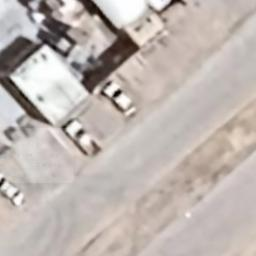pickup: (62, 118, 104, 159)
sedan: (99, 78, 139, 116), (0, 173, 26, 208)
